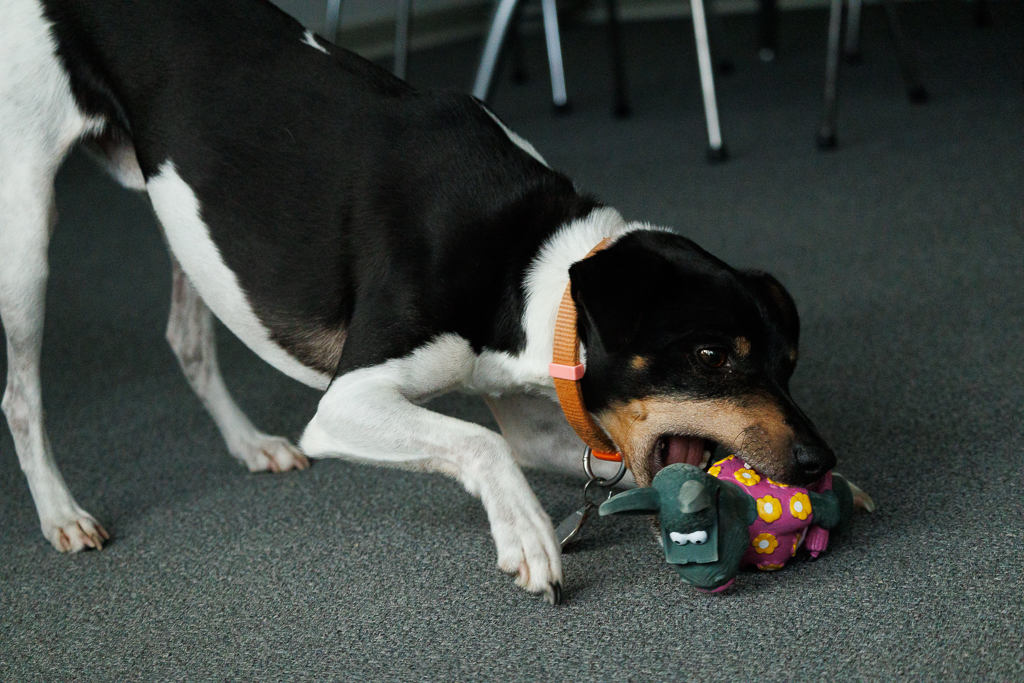Dog: (0, 0, 890, 612)
Humanoid: (589, 442, 883, 600)
